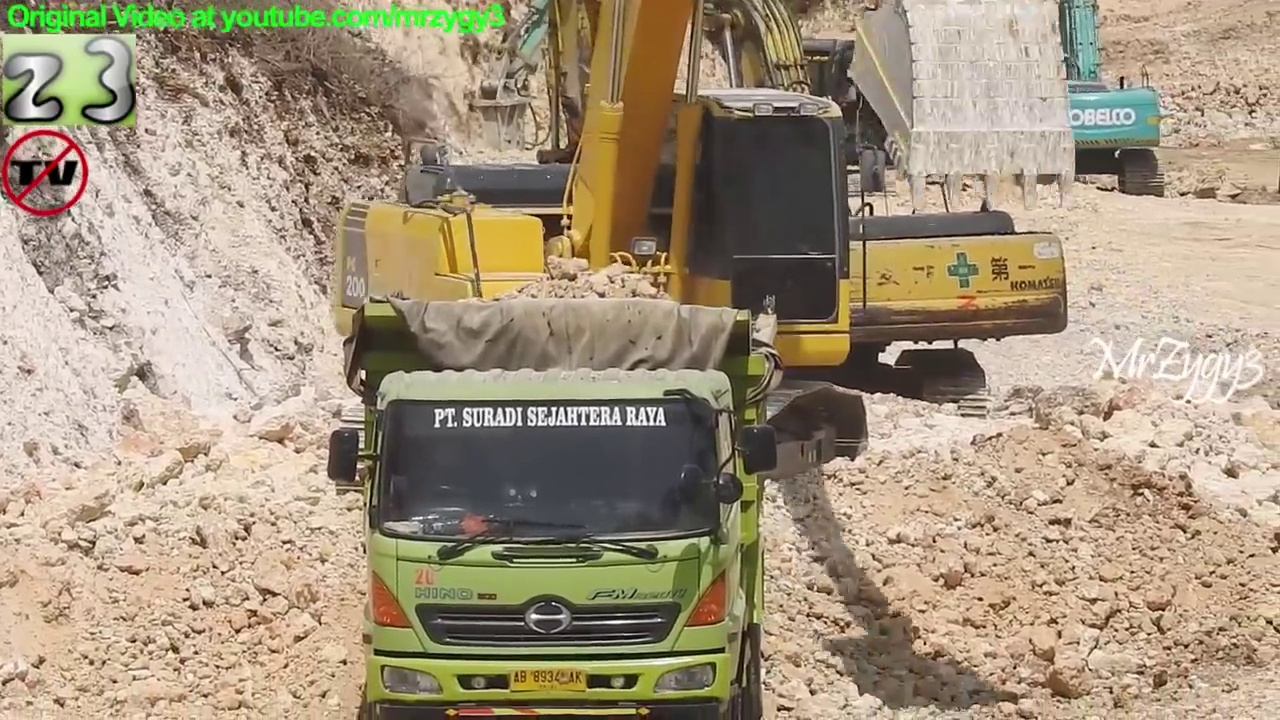excavator: (316, 1, 1092, 516), (509, 1, 1081, 430), (467, 1, 950, 213), (970, 1, 1174, 206)
truck: (320, 290, 789, 720)
